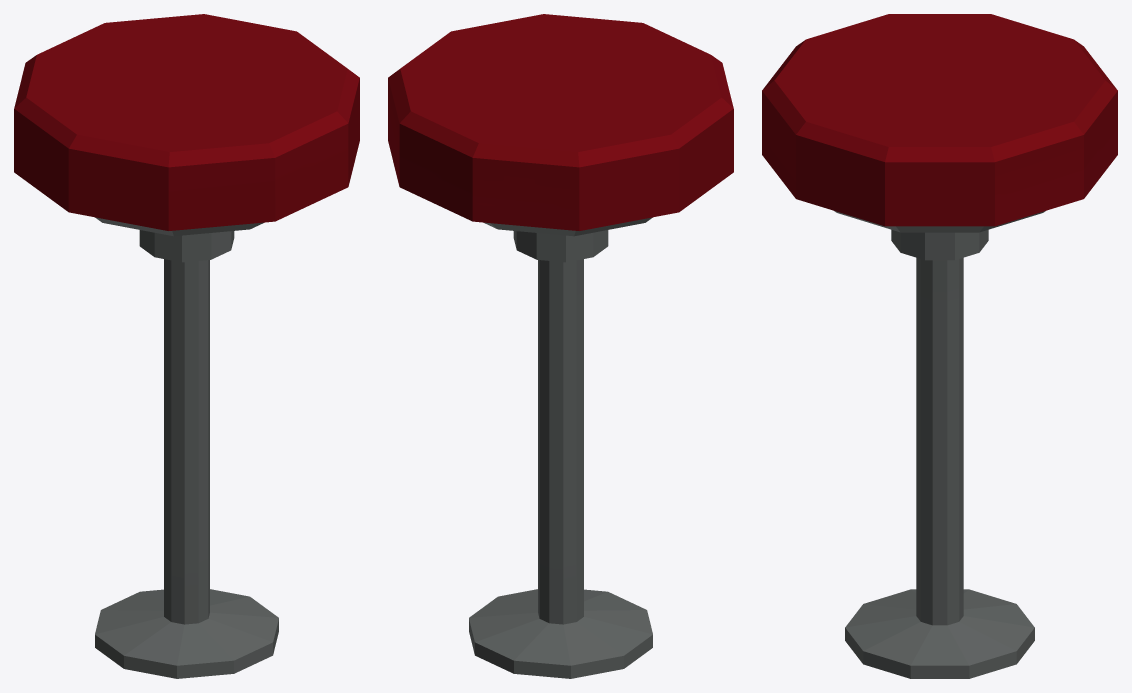
Rendered from Chaisse_bar.obj.
3 renders of one model, left to right at view 1: azimuth 30°, elevation 25°; view 2: azimuth 150°, elevation 25°; view 3: azimuth 270°, elevation 25°, orthographic.
Parts seen in each view (by area): view 1: Cylinder_Cylinder.001; view 2: Cylinder_Cylinder.001; view 3: Cylinder_Cylinder.001.
Part boxes in pixels (x1,y1,x2,y2): Cylinder_Cylinder.001: (14,14,359,678); Cylinder_Cylinder.001: (388,14,733,678); Cylinder_Cylinder.001: (762,14,1117,678).
Bounding box in the file's own units: 1.9 × 3.47 × 2.
